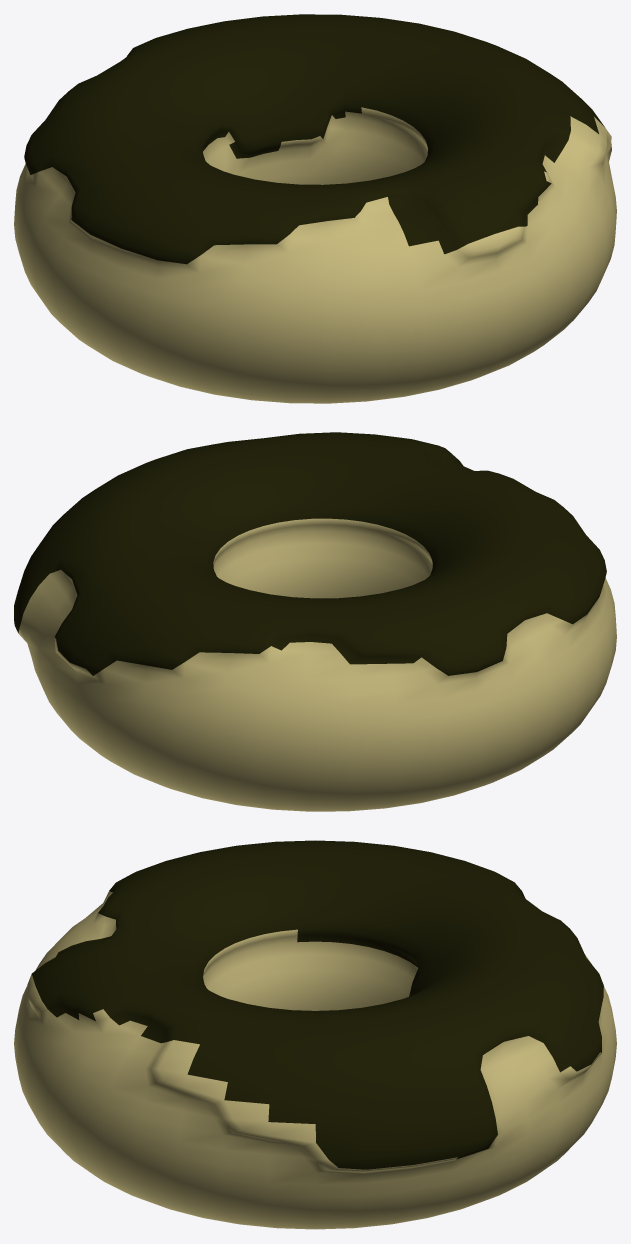
Rendered from Donut2.glb.
The picture shows the model from 3 angles, top to bottom: view 1: azimuth 30°, elevation 25°; view 2: azimuth 150°, elevation 25°; view 3: azimuth 270°, elevation 25°; orthographic projection. The views are drawn at different scales.
Visible parts, largest first — view 1: pTorus1; view 2: pTorus1; view 3: pTorus1.
Part boxes in pixels (x1,y1,x2,y2): pTorus1: (14,14,616,403); pTorus1: (14,432,616,811); pTorus1: (14,840,616,1229).
Bounding box in the file's own units: 3.03 × 1.11 × 2.95.
